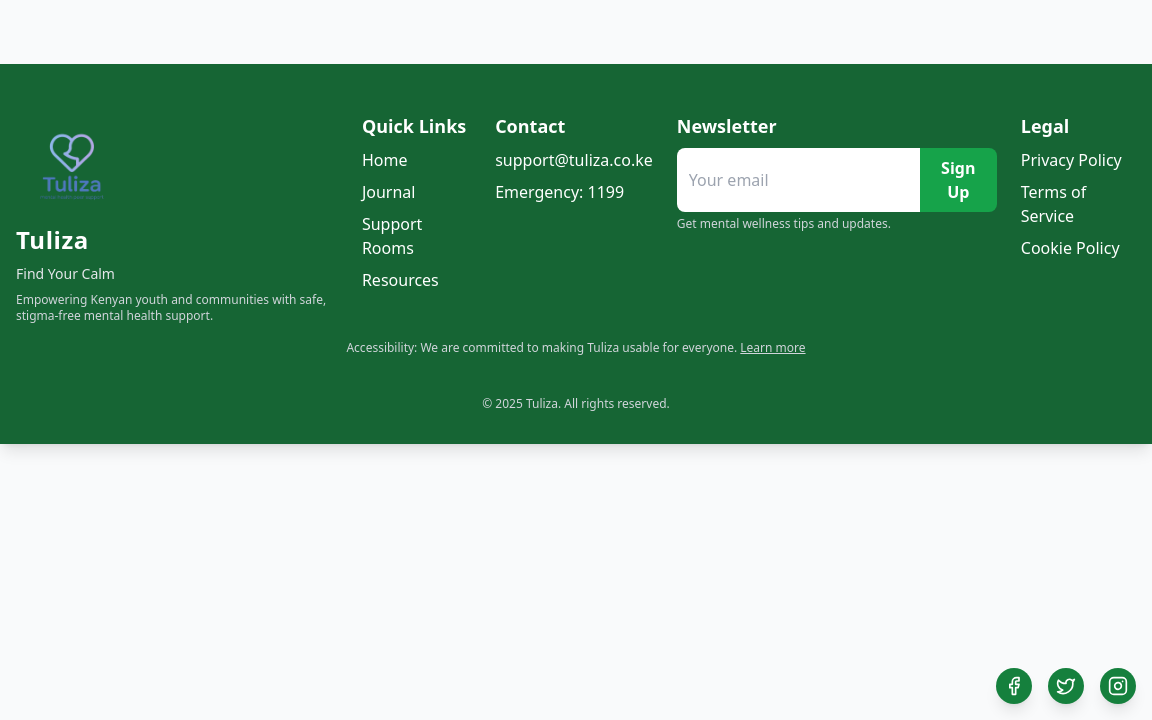
Test case: Footer Component › handles newsletter success
The width and height of the screenshot is (1152, 720).
Type "test@example.com" into the field named "Email address" at {"x": 798, "y": 180}, box [677,148,920,212]
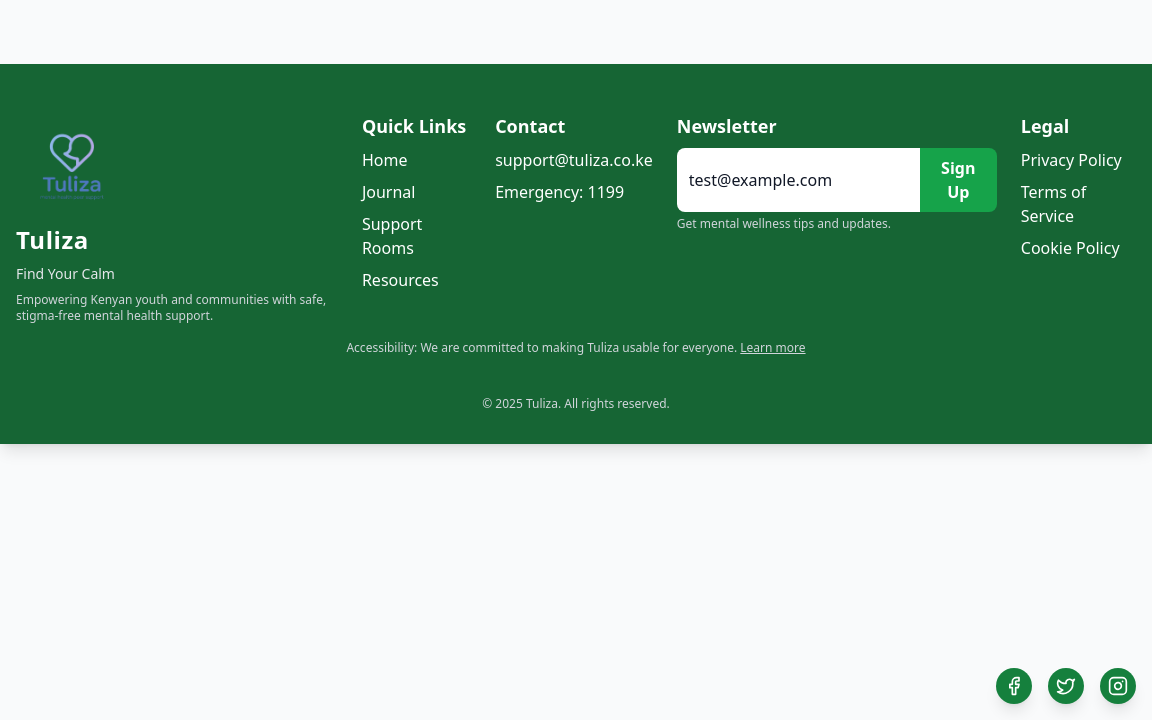
Click the button "Sign Up" at {"x": 958, "y": 180}, box [920,148,997,212]
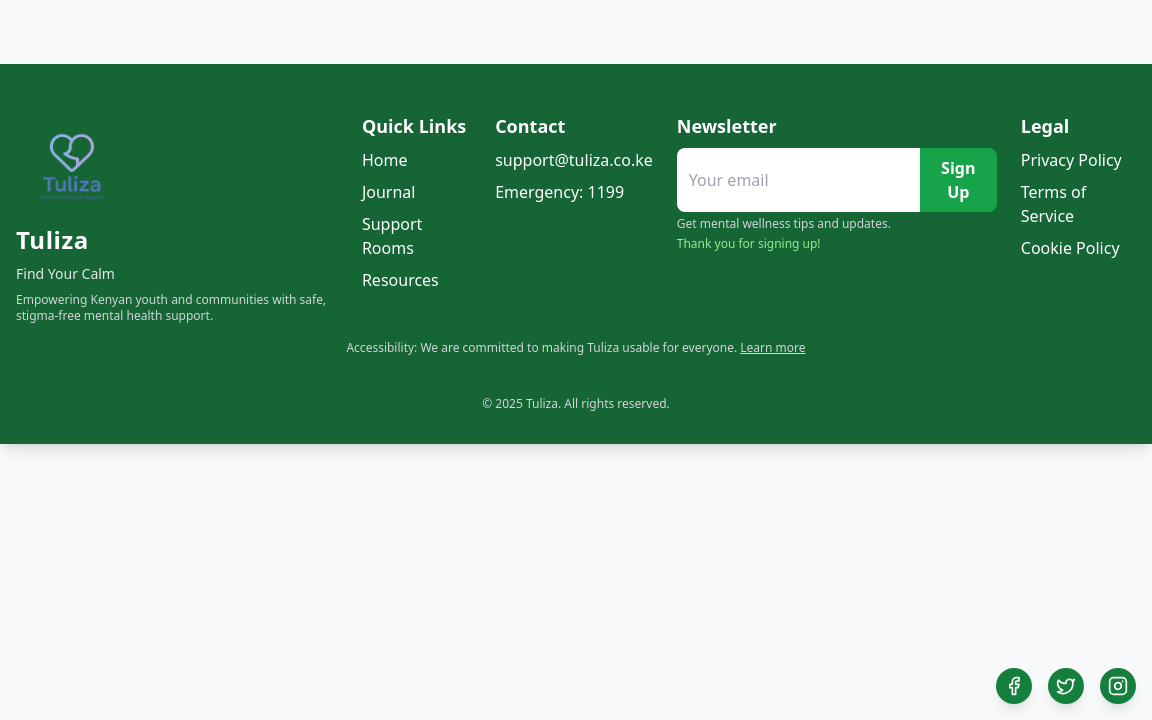
Now the text "Thank you for signing up!" is shown, box [677,236,821,252]
